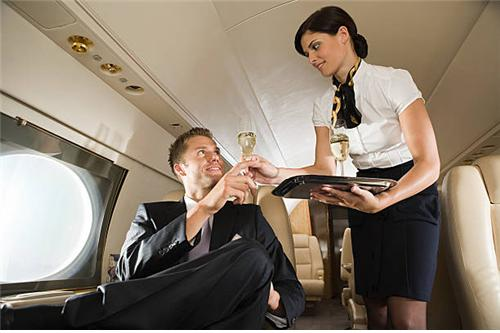alcohol: (235, 118, 257, 177), (329, 119, 350, 176)
